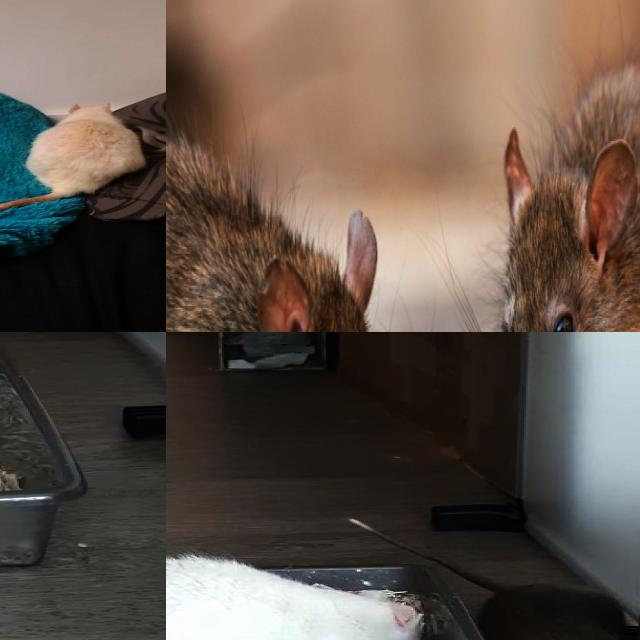rat: (166, 131, 400, 332), (501, 65, 640, 332), (166, 559, 430, 640), (24, 98, 148, 195), (475, 578, 640, 640)
